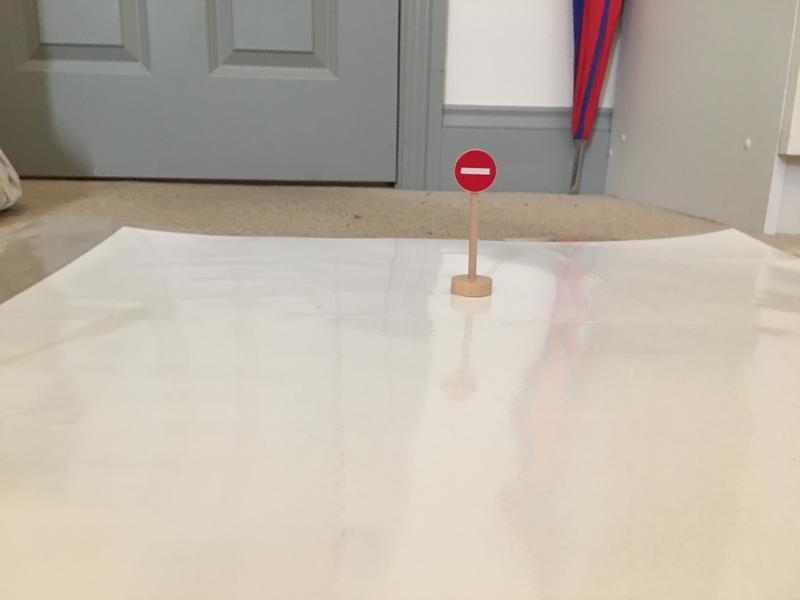Traffic_Sign_No_Entry: (454, 148, 496, 193)
